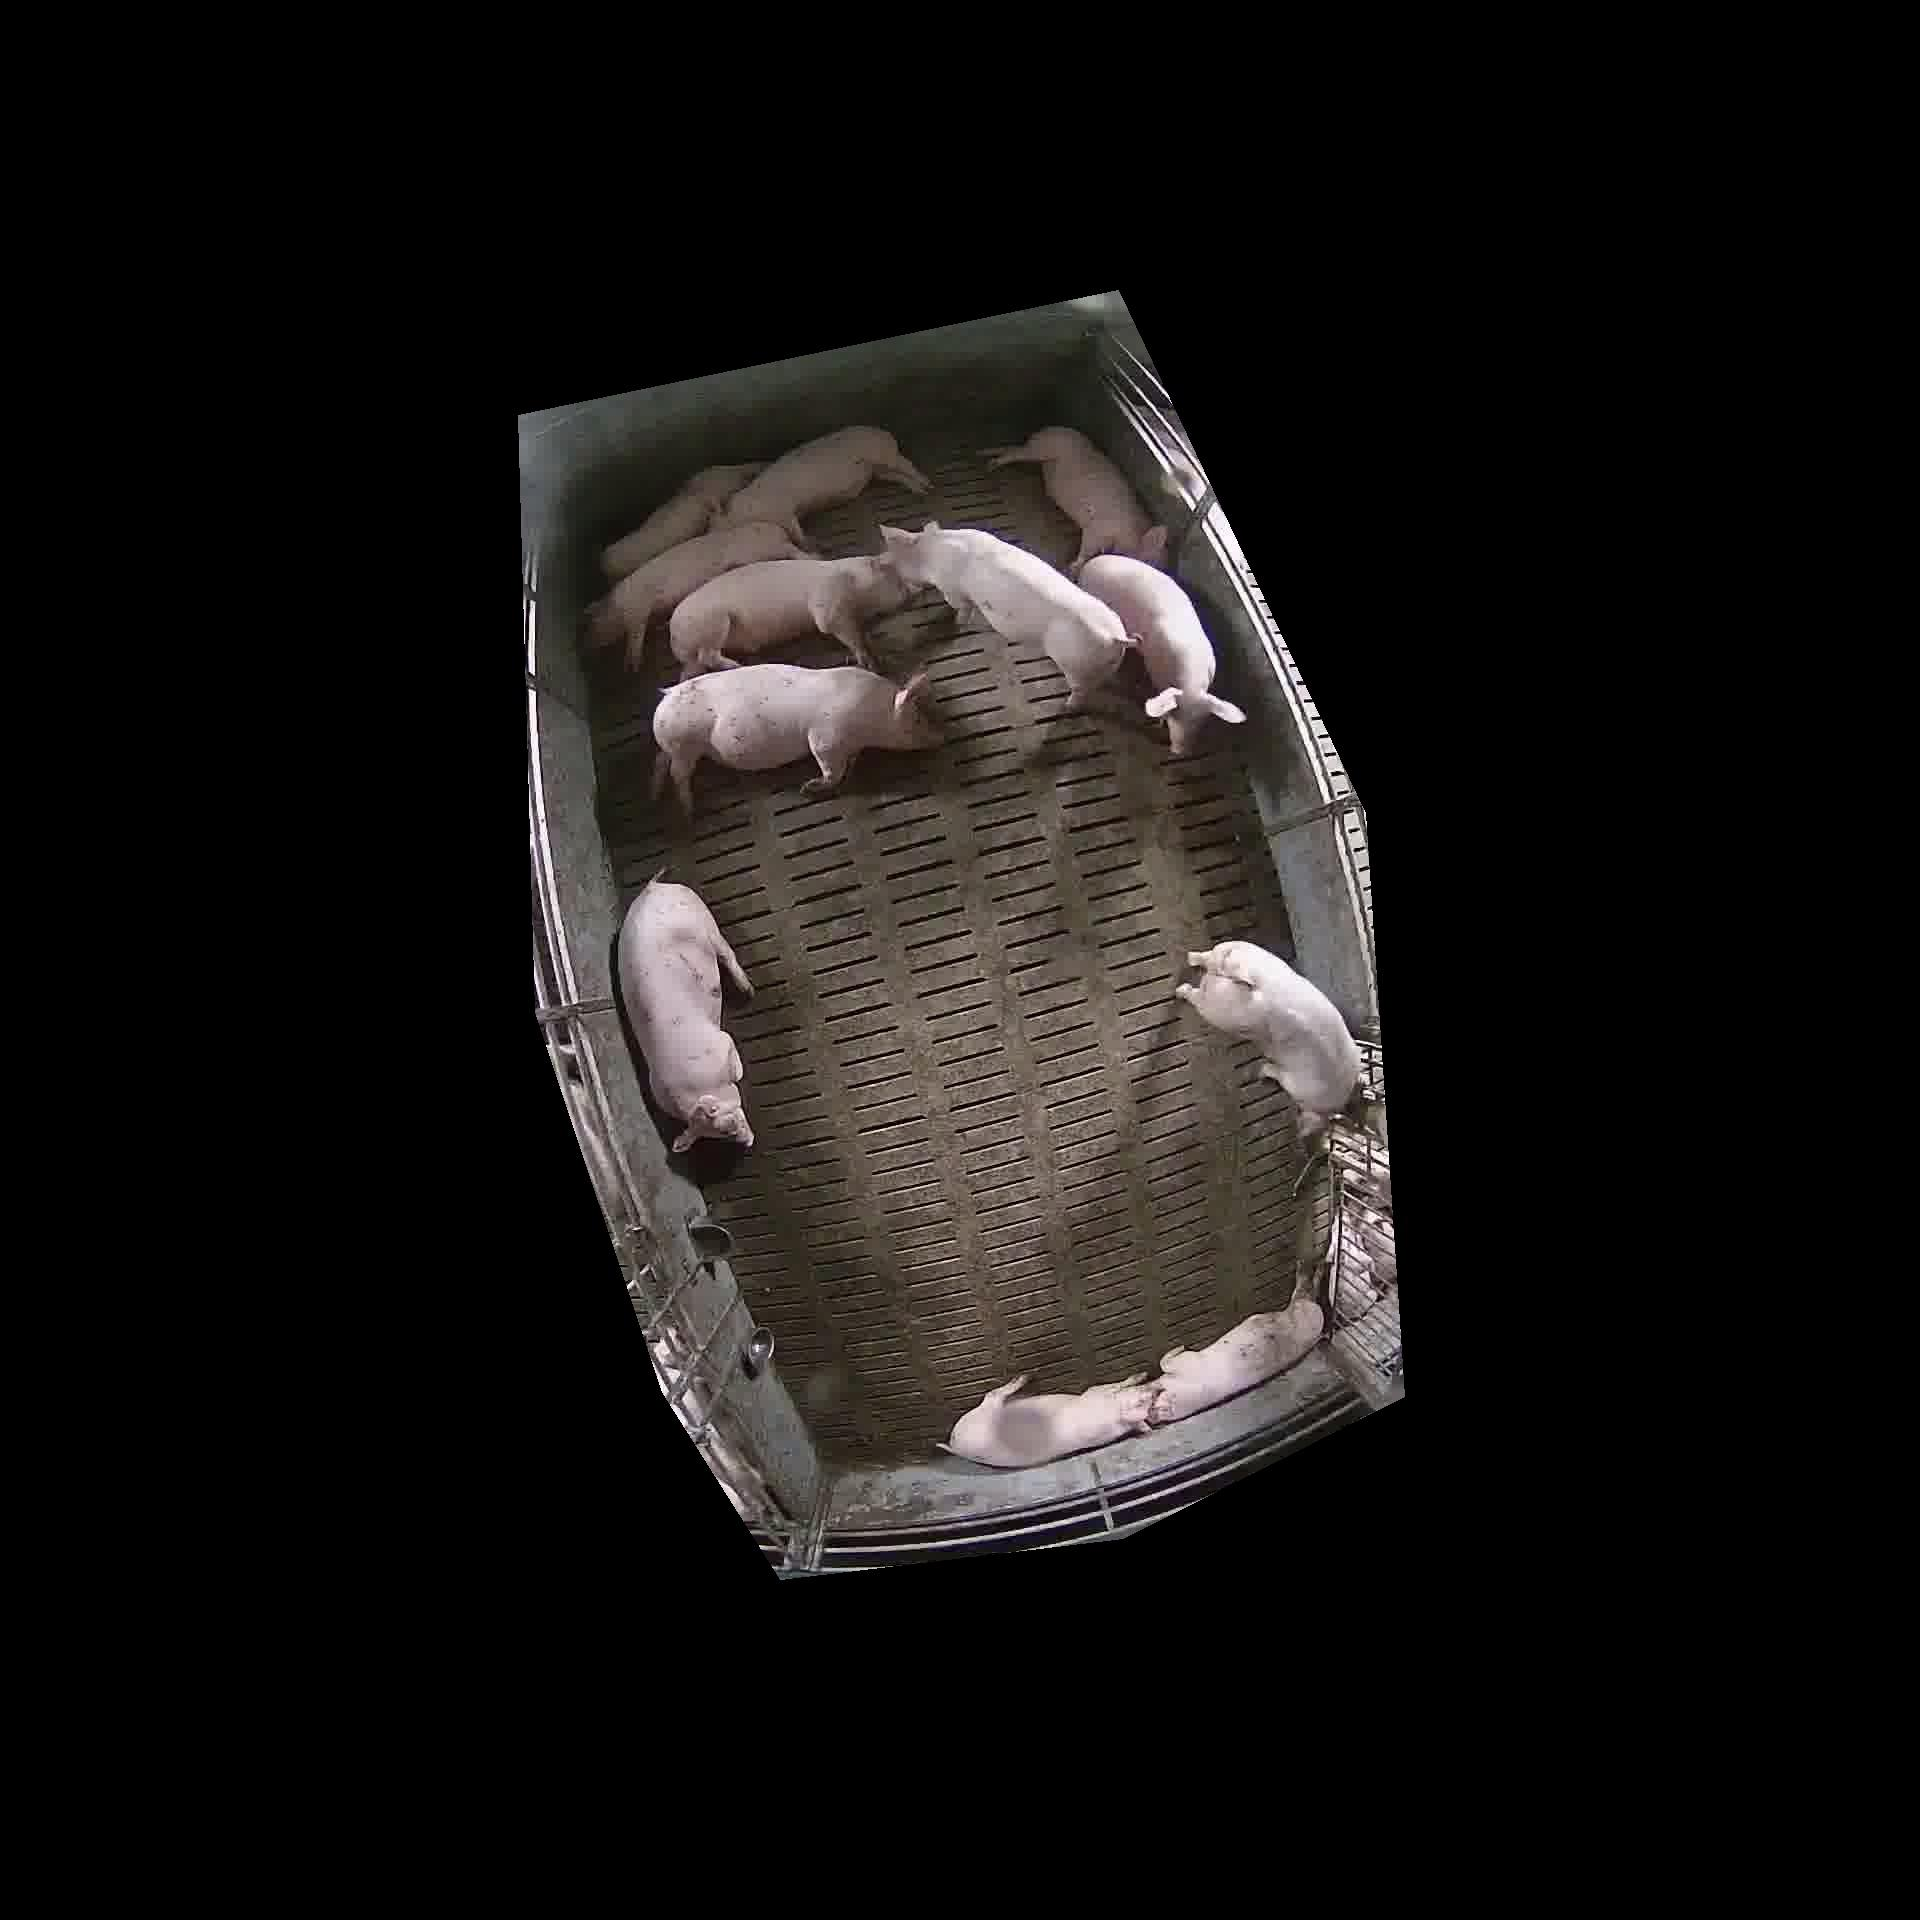pig: (881, 522, 1132, 707), (652, 665, 942, 812), (617, 877, 753, 1152), (1176, 941, 1359, 1136), (1078, 554, 1247, 754), (585, 522, 807, 668), (668, 556, 918, 679), (985, 427, 1167, 570), (714, 425, 928, 543), (935, 1371, 1155, 1466), (1152, 1298, 1320, 1421), (601, 462, 761, 580)
